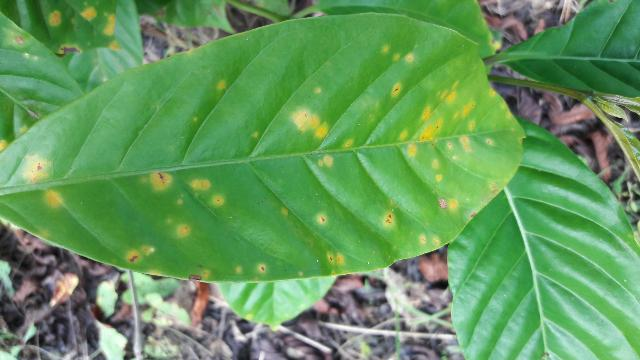rust_level_3: (0, 16, 522, 281)
